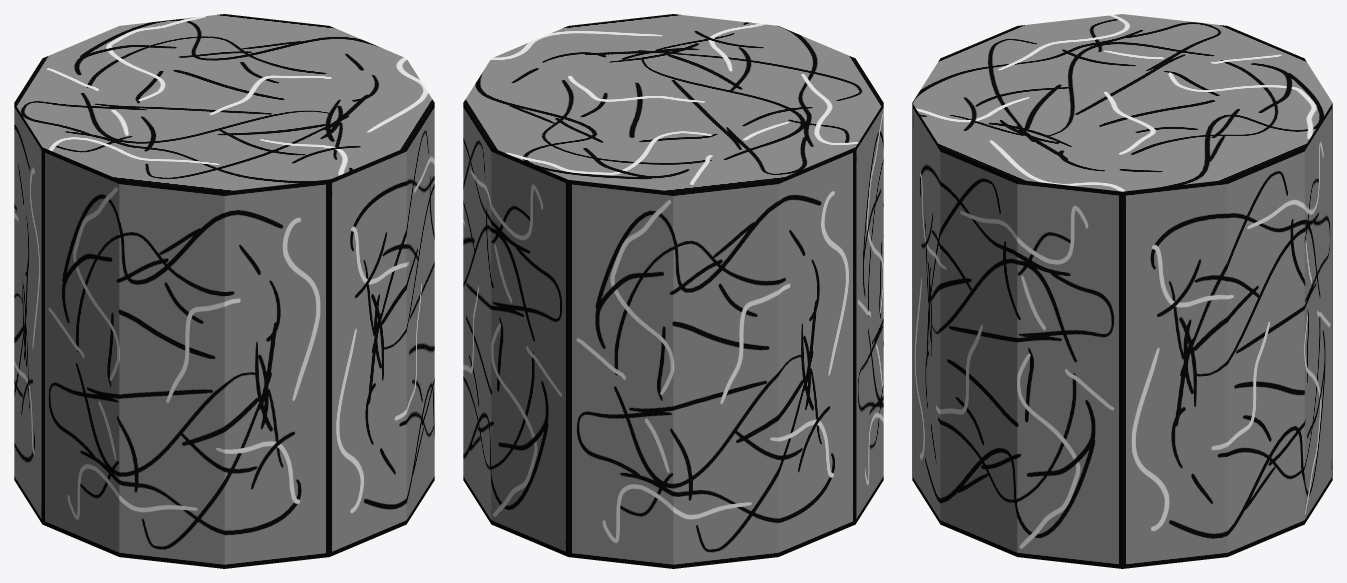
File: PillarB.obj
3 views of the same model, side by side, from view 1: azimuth 30°, elevation 25°; view 2: azimuth 150°, elevation 25°; view 3: azimuth 270°, elevation 25° (orthographic).
Visible parts, largest first — view 1: PillarB; view 2: PillarB; view 3: PillarB.
Boxes of the visible parts, <box> form: PillarB: <box>14,14,434,568</box>; PillarB: <box>463,14,883,568</box>; PillarB: <box>912,14,1332,568</box>.
Bounding box in the file's own units: 1 × 0.99 × 1.
